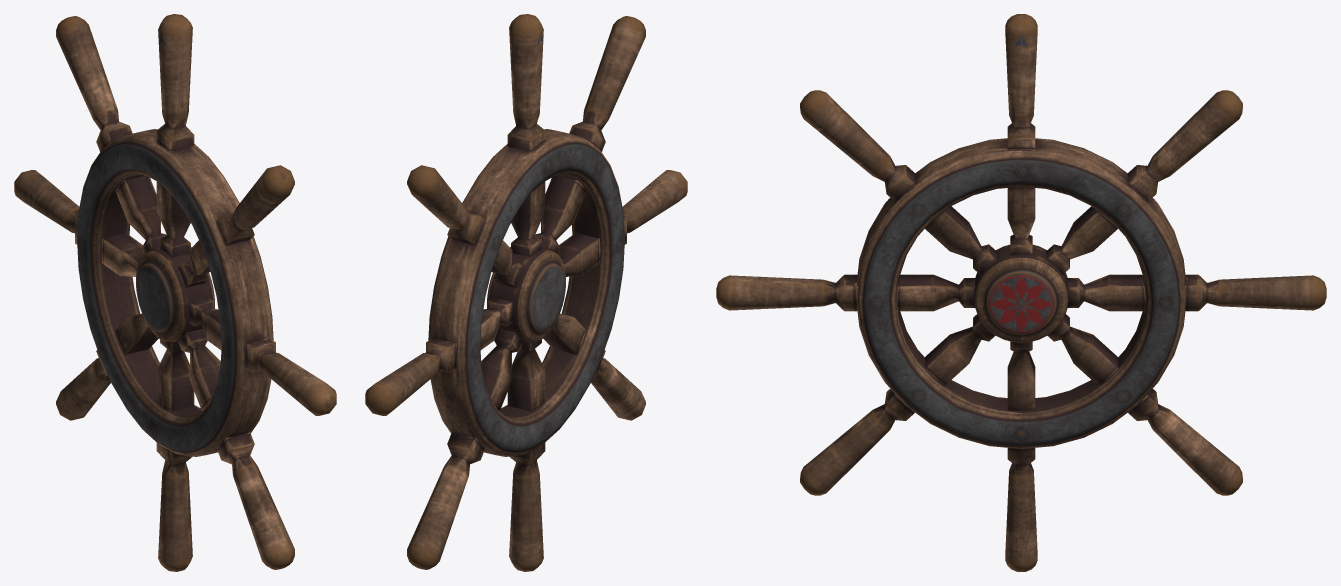
The model's file is Tiller.obj.
The picture shows the model from 3 angles, left to right: view 1: azimuth 30°, elevation 25°; view 2: azimuth 150°, elevation 25°; view 3: azimuth 270°, elevation 25°; orthographic projection.
Visible parts, largest first — view 1: Low.001_Cylinder.001; view 2: Low.001_Cylinder.001; view 3: Low.001_Cylinder.001.
Boxes of the visible parts, bbox=[...] form: Low.001_Cylinder.001: bbox=[14, 14, 336, 571]; Low.001_Cylinder.001: bbox=[365, 14, 687, 571]; Low.001_Cylinder.001: bbox=[716, 14, 1326, 571].
Bounding box in the file's own units: 0.0868 × 0.9997 × 0.9997.
